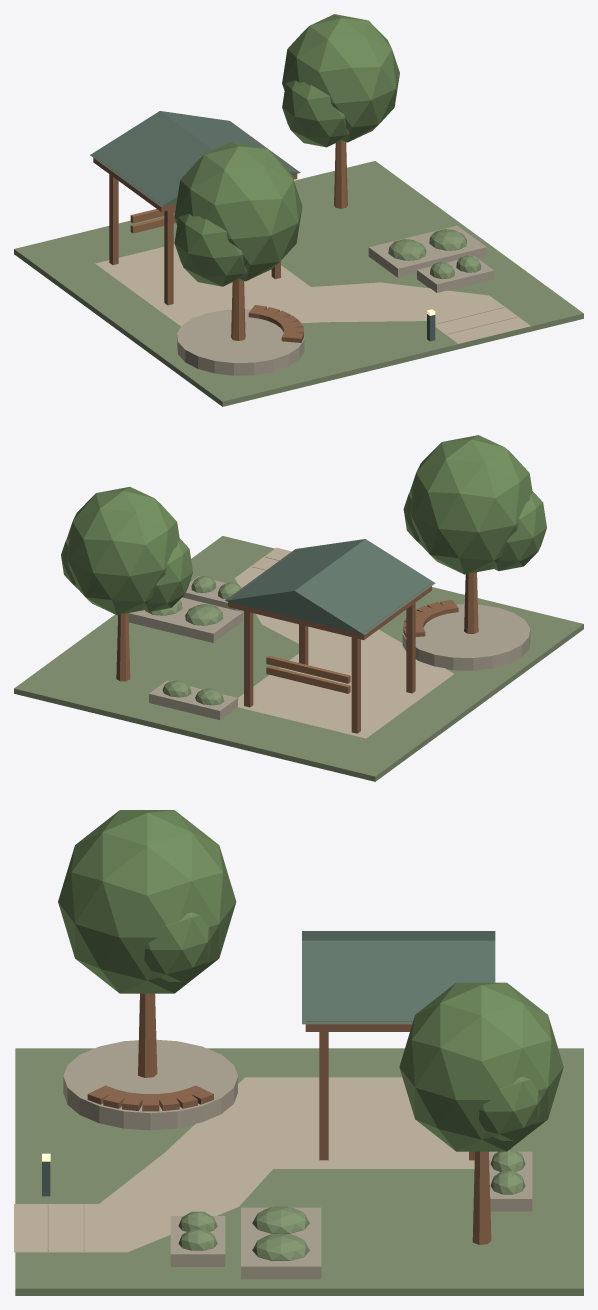
File: park_lod.glb
3 views of the same model, one above another, from view 1: azimuth 30°, elevation 25°; view 2: azimuth 150°, elevation 25°; view 3: azimuth 270°, elevation 25° (orthographic). The views are drawn at different scales.
Parts seen in each view (by area): view 1: park_Park_Turf, park_Walk_and_Seating_Court, park_Tree_Crown, park_Tree_Crown.003, park_Gable_Roof, park_Circular_Seat_Plinth, park_Tree_Crown.001, park_Tree_Crown.004, park_Low_Stone_Planting_Bed, park_Low_Stone_Planting_Bed.001, park_Pavilion_Post.001, park_Pavilion_Post (+5 smaller); view 2: park_Park_Turf, park_Tree_Crown, park_Walk_and_Seating_Court, park_Gable_Roof, park_Tree_Crown.003, park_Circular_Seat_Plinth, park_Low_Stone_Planting_Bed, park_Tree_Crown.001, park_Tree_Crown.004, park_Low_Stone_Planting_Bed.002, park_Pavilion_Eaves, park_Pavilion_Post (+8 smaller); view 3: park_Park_Turf, park_Walk_and_Seating_Court, park_Tree_Crown, park_Tree_Crown.003, park_Gable_Roof, park_Circular_Seat_Plinth, park_Low_Stone_Planting_Bed, park_Tree_Crown.002, park_Tree_Crown.005, park_Low_Stone_Planting_Bed.001, park_Tree_Trunk.001, park_Tree_Trunk (+9 smaller).
Boxes of the visible parts, box(x1,y1,x2,y2) form: park_Park_Turf: box(14, 161, 583, 406); park_Walk_and_Seating_Court: box(95, 244, 530, 343); park_Tree_Crown: box(174, 142, 302, 281); park_Tree_Crown.003: box(282, 14, 399, 142); park_Gable_Roof: box(90, 111, 300, 206); park_Circular_Seat_Plinth: box(177, 309, 304, 375); park_Tree_Crown.001: box(174, 214, 247, 286); park_Tree_Crown.004: box(282, 80, 349, 147); park_Low_Stone_Planting_Bed: box(368, 225, 486, 277); park_Low_Stone_Planting_Bed.001: box(417, 256, 494, 292); park_Pavilion_Post.001: box(164, 209, 173, 305); park_Pavilion_Post: box(109, 174, 118, 264); park_Park_Turf: box(14, 536, 583, 781); park_Tree_Crown: box(410, 435, 532, 574); park_Walk_and_Seating_Court: box(234, 547, 453, 738); park_Gable_Roof: box(225, 539, 435, 634); park_Tree_Crown.003: box(67, 487, 179, 615); park_Circular_Seat_Plinth: box(402, 604, 530, 670); park_Low_Stone_Planting_Bed: box(128, 597, 242, 642); park_Tree_Crown.001: box(492, 491, 546, 570); park_Tree_Crown.004: box(142, 538, 192, 611); park_Low_Stone_Planting_Bed.002: box(149, 680, 237, 720); park_Pavilion_Eaves: box(228, 550, 431, 639); park_Pavilion_Post: box(351, 637, 360, 733); park_Park_Turf: box(15, 1048, 583, 1295); park_Walk_and_Seating_Court: box(14, 1077, 474, 1252); park_Tree_Crown: box(58, 810, 236, 993); park_Tree_Crown.003: box(399, 982, 563, 1151); park_Gable_Roof: box(302, 931, 495, 1024); park_Circular_Seat_Plinth: box(63, 1039, 237, 1130); park_Low_Stone_Planting_Bed: box(241, 1207, 321, 1279); park_Tree_Crown.002: box(144, 912, 211, 981); park_Tree_Crown.005: box(479, 1076, 540, 1140); park_Low_Stone_Planting_Bed.001: box(170, 1216, 225, 1266); park_Tree_Trunk.001: box(472, 1151, 491, 1244); park_Tree_Trunk: box(138, 993, 157, 1077).
Size of the model in its own units: 7.94 by 4.4 by 7.96.
